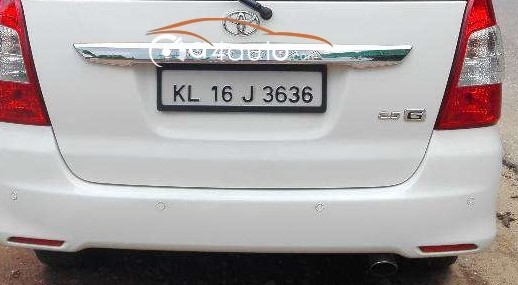KL16J3636: (160, 67, 324, 108)
